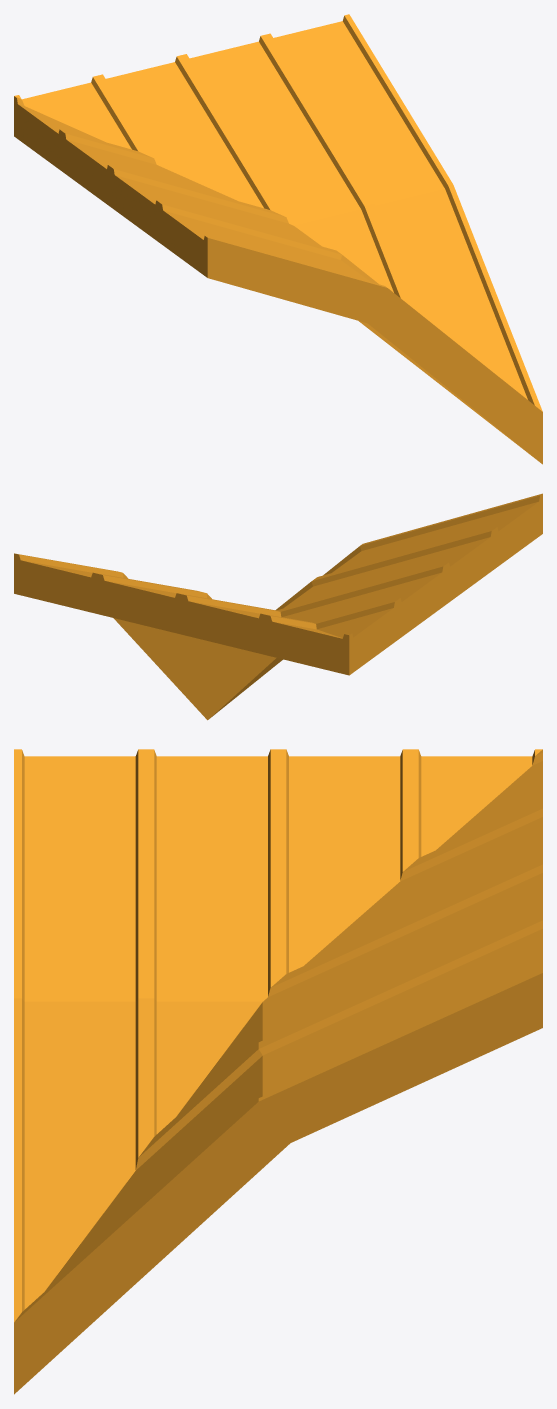
File: SM_Roof_Metal_Regular_Moderate_2x2m_Corner_B.fbx
3 renders of one model, top to bottom at view 1: azimuth 30°, elevation 25°; view 2: azimuth 150°, elevation 25°; view 3: azimuth 270°, elevation 25°, orthographic. The views are drawn at different scales.
Parts seen in each view (by area): view 1: roof-metal-regular-moderate-2x2m-corner-b; view 2: roof-metal-regular-moderate-2x2m-corner-b; view 3: roof-metal-regular-moderate-2x2m-corner-b.
Part boxes in pixels (x1,y1,x2,y2): roof-metal-regular-moderate-2x2m-corner-b: (14, 14, 542, 464); roof-metal-regular-moderate-2x2m-corner-b: (14, 493, 542, 720); roof-metal-regular-moderate-2x2m-corner-b: (14, 749, 542, 1394).
Size of the model in its own units: 2 by 1.76 by 2.
